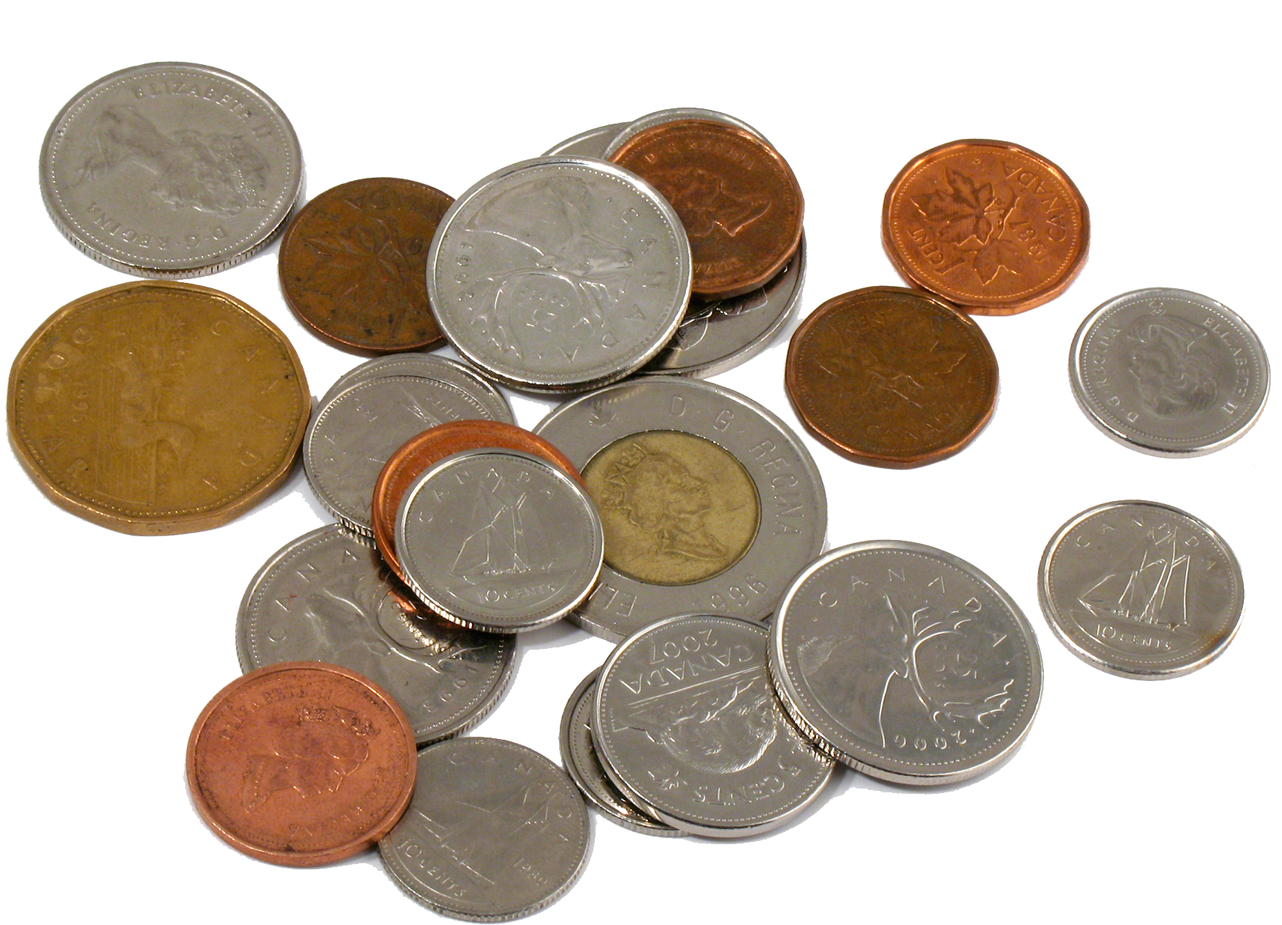coin: (6, 281, 309, 535), (536, 377, 827, 641), (770, 541, 1043, 784), (428, 156, 689, 392), (236, 525, 513, 744), (38, 62, 304, 278), (592, 615, 832, 837), (185, 661, 416, 866), (379, 737, 594, 922), (783, 287, 999, 468), (395, 448, 603, 632), (1037, 500, 1245, 679), (881, 139, 1088, 315), (609, 119, 804, 298), (1068, 287, 1271, 458), (371, 420, 581, 575), (278, 178, 452, 353), (303, 376, 490, 535), (558, 668, 683, 837)
